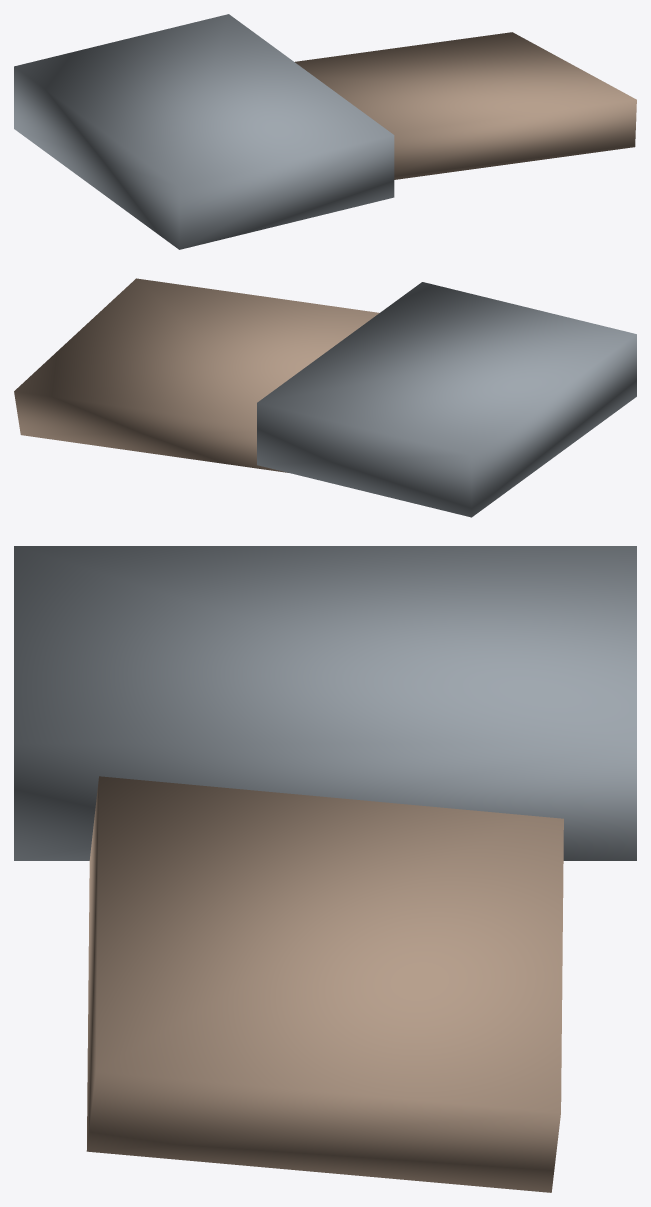
The model's file is tectonic_plates.glb.
3 renders of one model, top to bottom at view 1: azimuth 30°, elevation 25°; view 2: azimuth 150°, elevation 25°; view 3: azimuth 270°, elevation 25°, orthographic. The views are drawn at different scales.
Parts seen in each view (by area): view 1: p1, p2; view 2: p1, p2; view 3: p2, p1.
Part boxes in pixels (x1,y1,x2,y2): p1: (14,14,394,249); p2: (295,32,636,179); p1: (257,282,636,517); p2: (14,278,379,472); p2: (86,776,563,1192); p1: (14,546,636,860).
Size of the model in its own units: 2.01 by 0.4489 by 1.2.
